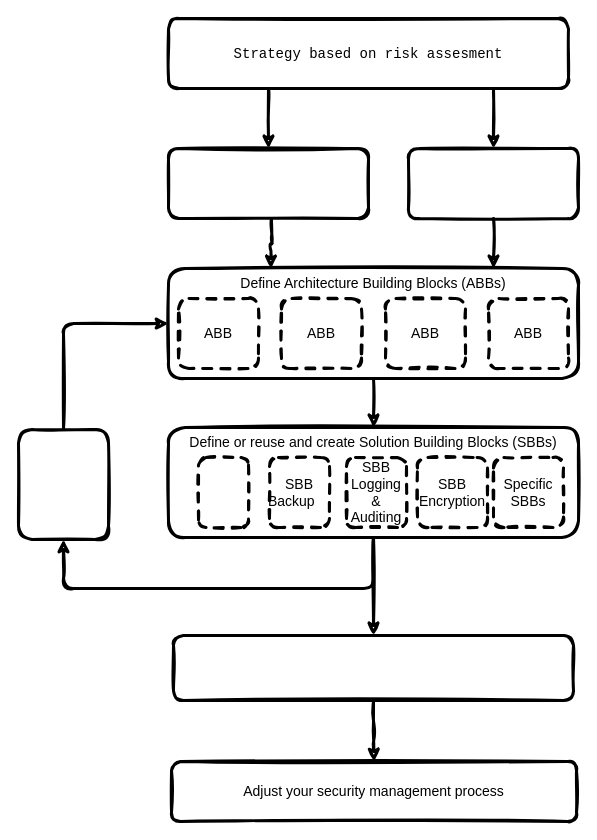
This 597x840 diagram has some shape labels left out. Here are the shapes that lost their labels. From the top down, the centre of each, then its label:
At [268,183]: "Define or reuse good Security Principles".
At [493,183]: "Requirements and constrains for your problem situation".
At [63,484]: "Review and improve".
At [223,492]: "SBB IAM".
At [373,668]: "Cyber Security Solution".
